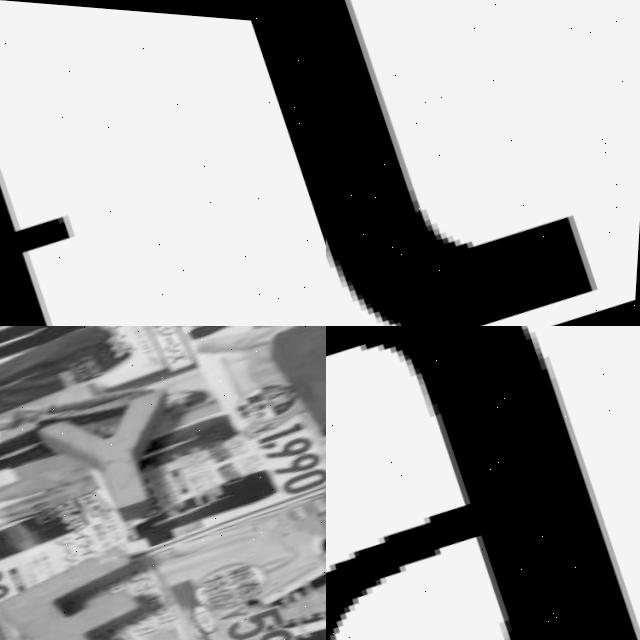A: (326, 326, 640, 640)
E: (262, 326, 326, 438)
F: (0, 527, 181, 640)
L: (326, 0, 629, 326)
T: (0, 41, 231, 326)
Y: (25, 370, 206, 542)
